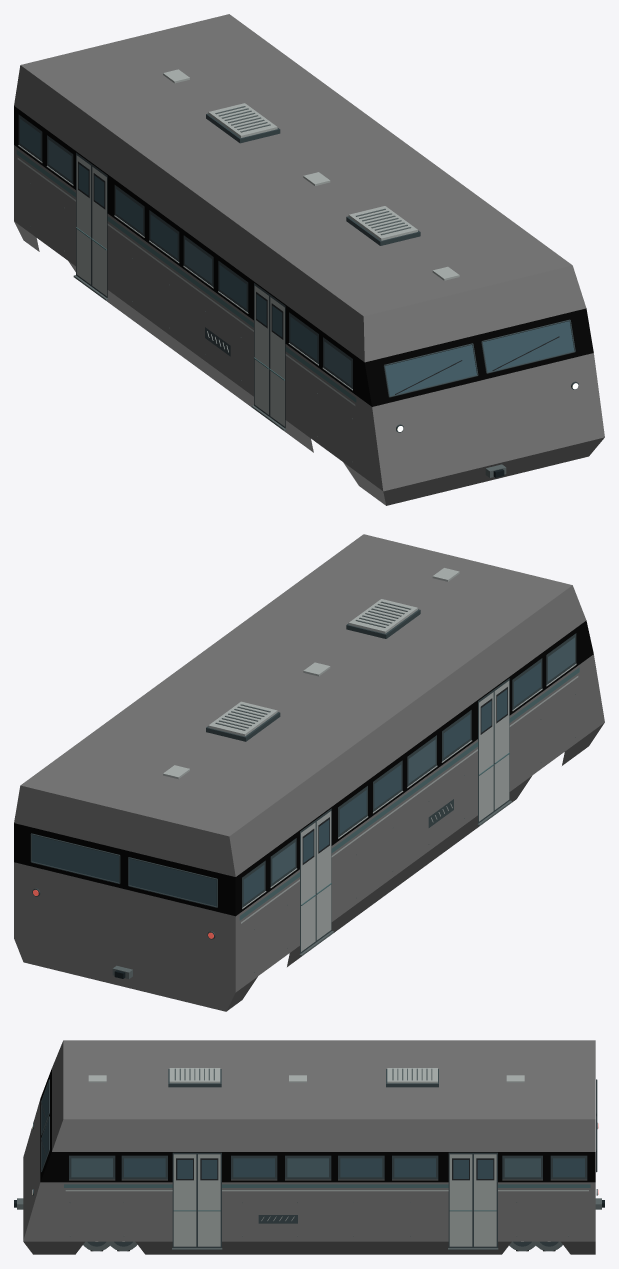
The model's file is TRAIN1.glb.
The picture shows the model from 3 angles, top to bottom: view 1: azimuth 30°, elevation 25°; view 2: azimuth 150°, elevation 25°; view 3: azimuth 270°, elevation 25°; orthographic projection. The views are drawn at different scales.
Visible parts, largest first — view 1: TRAIN1 | archived geometry, TRAIN1 | glazing, sliding doors and body mouldings, TRAIN1 | ventilators and roof access; view 2: TRAIN1 | archived geometry, TRAIN1 | glazing, sliding doors and body mouldings, TRAIN1 | ventilators and roof access; view 3: TRAIN1 | archived geometry, TRAIN1 | glazing, sliding doors and body mouldings, TRAIN1 | ventilators and roof access, TRAIN1 | bogie castings, wheel centres and couplers.
Boxes of the visible parts, x1=… form: TRAIN1 | archived geometry: x1=14, y1=14, x2=604, y2=505; TRAIN1 | glazing, sliding doors and body mouldings: x1=16, y1=114, x2=578, y2=462; TRAIN1 | ventilators and roof access: x1=163, y1=69, x2=459, y2=280; TRAIN1 | archived geometry: x1=14, y1=534, x2=604, y2=1011; TRAIN1 | glazing, sliding doors and body mouldings: x1=30, y1=633, x2=579, y2=972; TRAIN1 | ventilators and roof access: x1=163, y1=568, x2=459, y2=779; TRAIN1 | archived geometry: x1=23, y1=1040, x2=595, y2=1254; TRAIN1 | glazing, sliding doors and body mouldings: x1=32, y1=1079, x2=598, y2=1249; TRAIN1 | ventilators and roof access: x1=88, y1=1068, x2=524, y2=1087; TRAIN1 | bogie castings, wheel centres and couplers: x1=14, y1=1198, x2=604, y2=1251.
Size of the model in its own units: 5 by 4.08 by 14.48.
